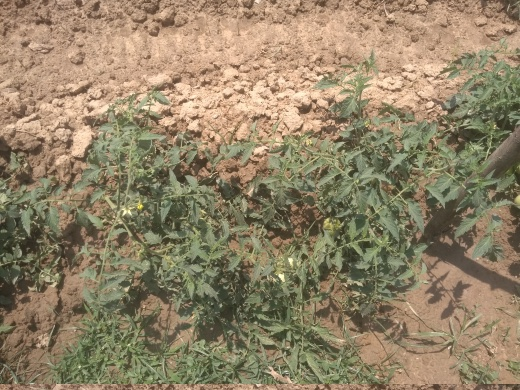tomato flower: (116, 197, 146, 218)
tomato plant: (112, 164, 309, 326), (344, 60, 518, 235)
